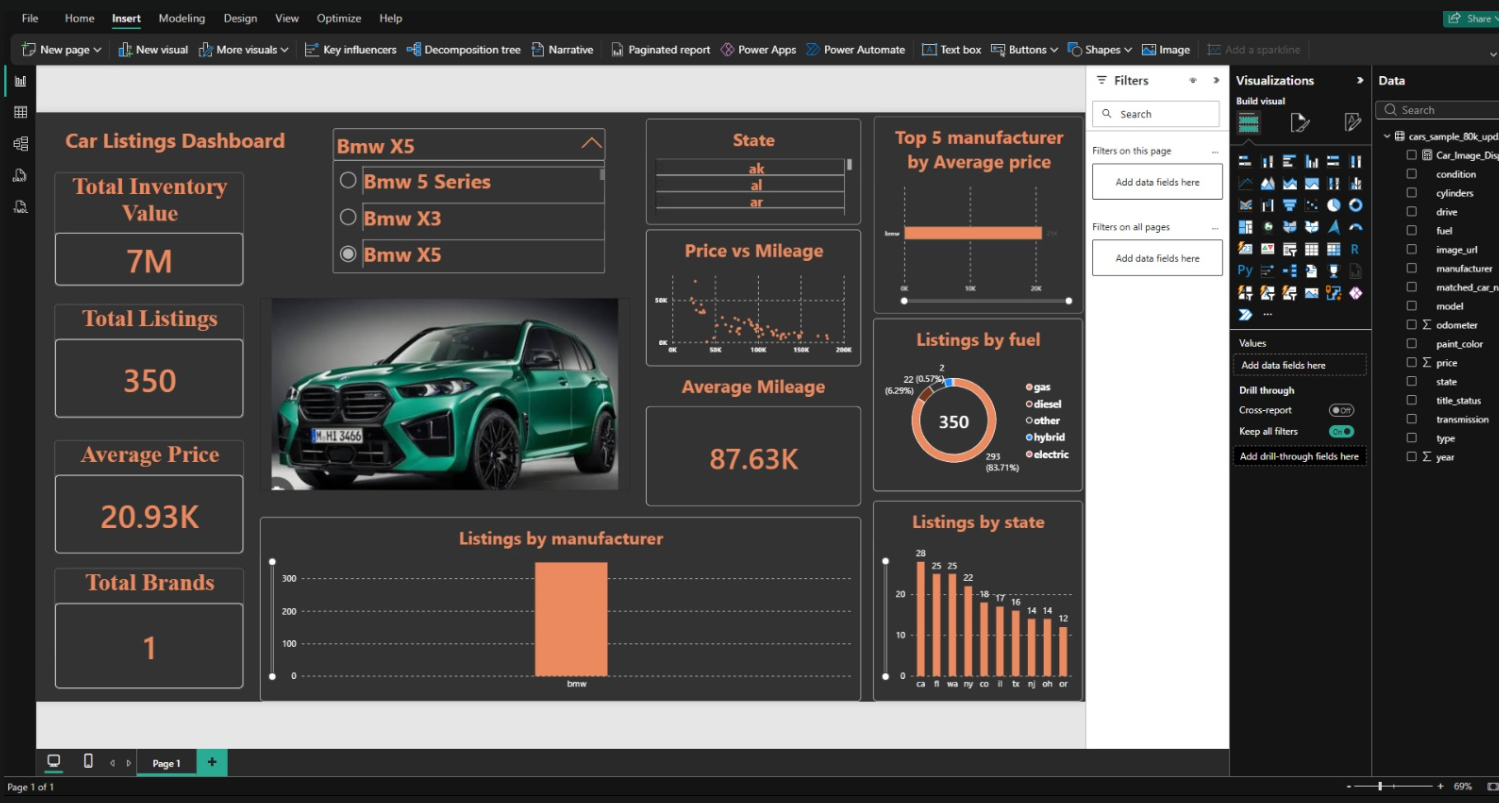

The page's visual inventory and layout, read from the dashboard file:
{"tool":"powerbi","page":{"name":"Page 1","canvas":[1920,1080],"ordinal":0},"visuals":[{"type":"cardVisual","title":"Total Inventory Value","fields":{"Data":["Sum(cars_sample_80k_updated.price)"]},"box":[33.1,109.4,346.9,208.7],"z":0},{"type":"cardVisual","title":"Average Price","fields":{"Data":["Avg(cars_sample_80k_updated.price)"]},"box":[33.1,600.2,347,208.2],"z":1000},{"type":"cardVisual","title":"Total Brands","fields":{"Data":["Count(cars_sample_80k_updated.manufacturer)"]},"box":[33.1,834.8,347,221.4],"z":2000},{"type":"cardVisual","title":"Total Listings","fields":{"Data":["CountNonNull(cars_sample_80k_updated.price)"]},"box":[33.1,351.2,346.9,208.7],"z":3000},{"type":"slicer","fields":{"Values":["cars_sample_80k_updated.matched_car_name"]},"box":[538.3,24.5,508.1,132.4],"z":4000},{"type":"image","box":[408.8,339.7,677.9,352.6],"z":5000},{"type":"textbox","box":[47.5,24.5,413.1,61.9],"z":6000},{"type":"clusteredBarChart","title":"Top 5 manufacturer by Average price","fields":{"Category":["cars_sample_80k_updated.manufacturer"],"Y":["Avg(cars_sample_80k_updated.price)"]},"box":[1532.8,7.2,384.3,361.3],"z":7000},{"type":"donutChart","title":"Listings by fuel","fields":{"Category":["cars_sample_80k_updated.fuel"],"Y":["CountNonNull(cars_sample_80k_updated.price)"]},"box":[1531.4,377.1,384.3,316.6],"z":8000},{"type":"clusteredColumnChart","title":"Listings by state","fields":{"Category":["cars_sample_80k_updated.state"],"Y":["CountNonNull(cars_sample_80k_updated.price)"]},"box":[1531.4,711,384.3,368.5],"z":9000},{"type":"clusteredColumnChart","title":"Listings by manufacturer","fields":{"Category":["cars_sample_80k_updated.manufacturer"],"Y":["CountNonNull(cars_sample_80k_updated.price)"]},"box":[408.8,741.2,1101,338.2],"z":10000},{"type":"listSlicer","title":"State","fields":{"Values":["cars_sample_80k_updated.state"]},"box":[1115.4,11.5,394.4,194.3],"z":11000},{"type":"scatterChart","title":"Price vs Mileage","fields":{"Category":["cars_sample_80k_updated.model"],"X":["Avg(cars_sample_80k_updated.odometer)"],"Y":["Avg(cars_sample_80k_updated.price)"]},"box":[1115.4,214.5,394.4,250.4],"z":12000},{"type":"cardVisual","title":"Average Mileage","fields":{"Data":["Avg(cars_sample_80k_updated.odometer)"]},"box":[1115.4,477.8,394.4,243.2],"z":13000}]}

Visuals, with their boxes on the page's 1920x1080 design canvas (x1, y1, x2, y2). These are canvas units, not pixel positions in the 1499x803 screenshot, which may show the page scaled, cropped or inside an application window:
"Total Inventory Value" cardVisual: {"left": 33, "top": 109, "right": 380, "bottom": 318}
"Average Price" cardVisual: {"left": 33, "top": 600, "right": 380, "bottom": 808}
"Total Brands" cardVisual: {"left": 33, "top": 835, "right": 380, "bottom": 1056}
"Total Listings" cardVisual: {"left": 33, "top": 351, "right": 380, "bottom": 560}
slicer - cars_sample_80k_updated.matched_car_name: {"left": 538, "top": 24, "right": 1046, "bottom": 157}
image: {"left": 409, "top": 340, "right": 1087, "bottom": 692}
textbox: {"left": 48, "top": 24, "right": 461, "bottom": 86}
"Top 5 manufacturer by Average price" clusteredBarChart: {"left": 1533, "top": 7, "right": 1917, "bottom": 368}
"Listings by fuel" donutChart: {"left": 1531, "top": 377, "right": 1916, "bottom": 694}
"Listings by state" clusteredColumnChart: {"left": 1531, "top": 711, "right": 1916, "bottom": 1080}
"Listings by manufacturer" clusteredColumnChart: {"left": 409, "top": 741, "right": 1510, "bottom": 1079}
"State" listSlicer: {"left": 1115, "top": 12, "right": 1510, "bottom": 206}
"Price vs Mileage" scatterChart: {"left": 1115, "top": 214, "right": 1510, "bottom": 465}
"Average Mileage" cardVisual: {"left": 1115, "top": 478, "right": 1510, "bottom": 721}
